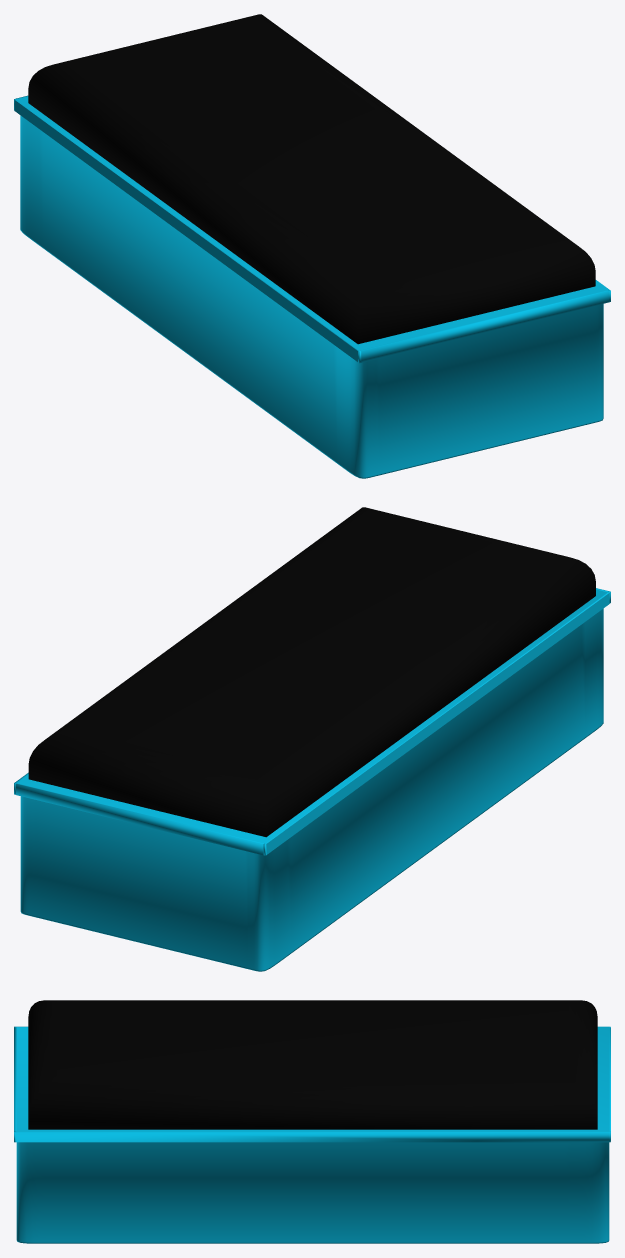
File: low-poly_3d_model_of_whiteboard_eraser.glb
3 views of the same model, one above another, from view 1: azimuth 30°, elevation 25°; view 2: azimuth 150°, elevation 25°; view 3: azimuth 270°, elevation 25° (orthographic). The views are drawn at different scales.
Parts seen in each view (by area): view 1: White Board Eraser_0; view 2: White Board Eraser_0; view 3: White Board Eraser_0.
Part boxes in pixels (<box>): White Board Eraser_0: <box>14,14,610,478</box>; White Board Eraser_0: <box>14,507,610,971</box>; White Board Eraser_0: <box>14,1000,610,1243</box>.
Size of the model in its own units: 0.0508 by 0.0336 by 0.1208.
